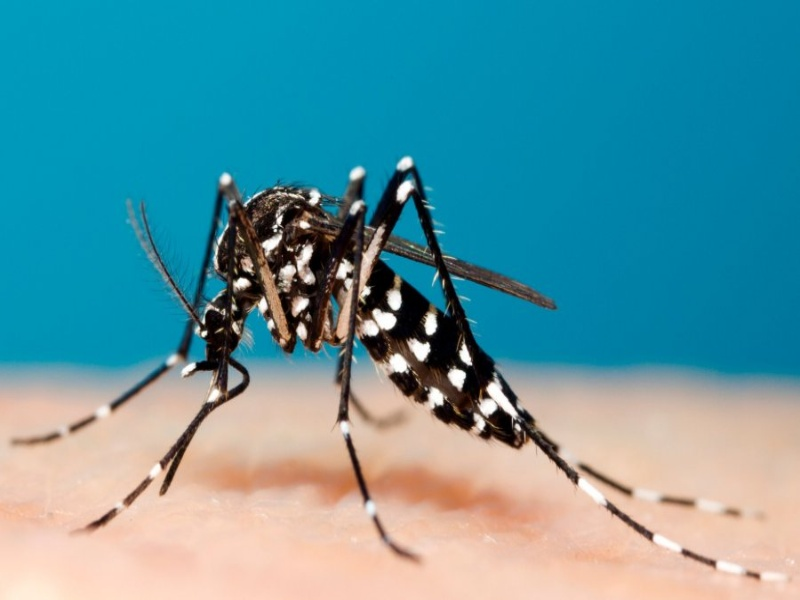dengue_mosquito: (129, 155, 558, 457)
